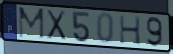0: (94, 11, 117, 46)
5: (71, 10, 91, 44)
9: (145, 16, 164, 48)
H: (118, 14, 142, 47)
M: (18, 6, 46, 40)
X: (45, 9, 68, 42)
